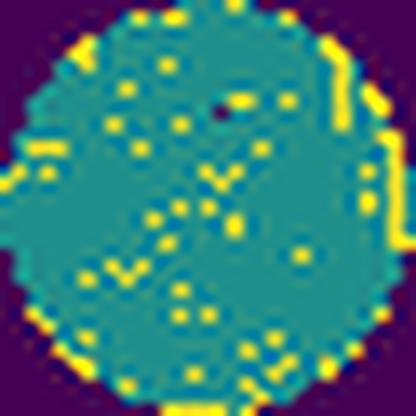Scratch: (371, 126, 416, 256), (316, 35, 355, 139)
